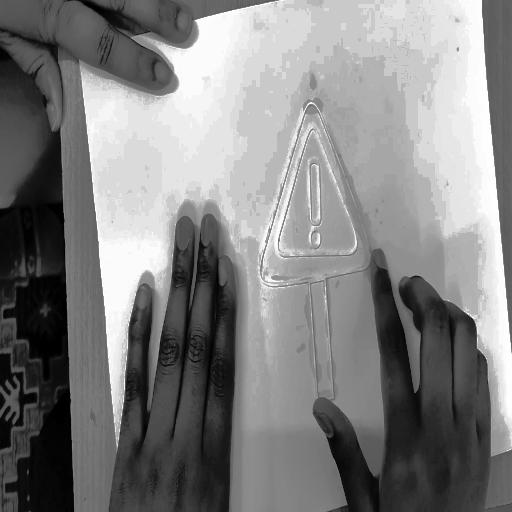signboard: (236, 83, 399, 445)
top_left: (76, 42, 85, 57)
